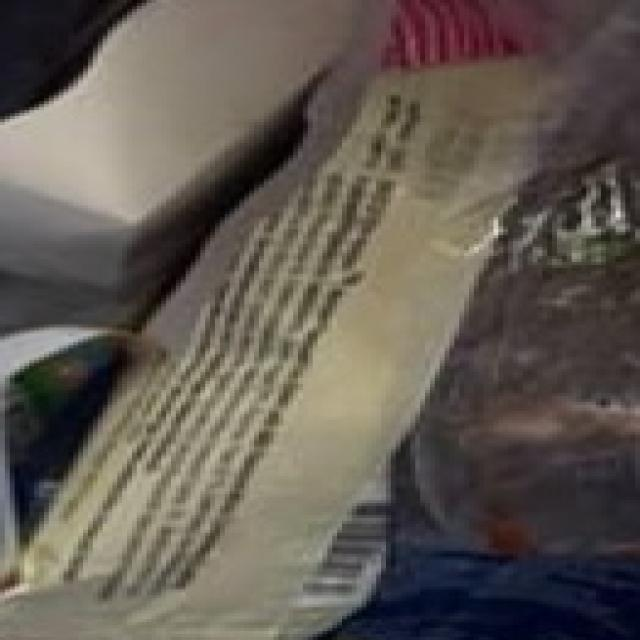plastic bag: (0, 0, 640, 631)
